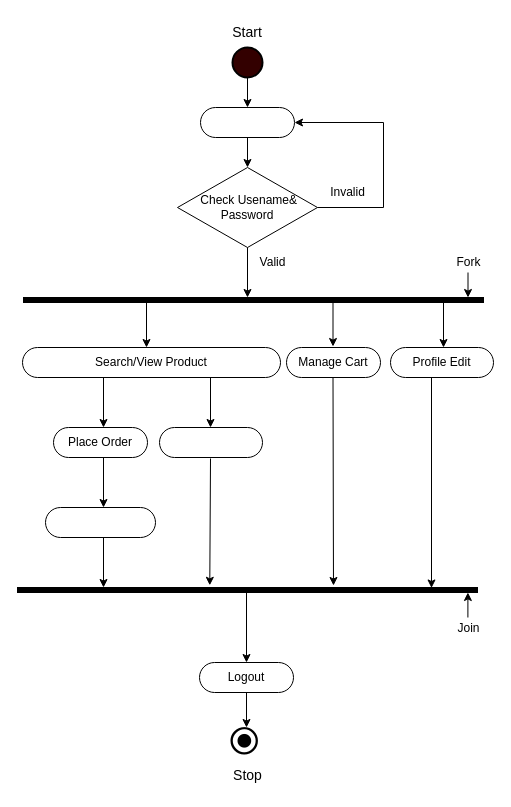
Some shapes in this 511 by 807 pixel diagram are drawn without their labels. The centre of each missing label's shape, as x and y in pixels:
Register/Login: point 247,122
Review: point 210,442
View Order Details: point 100,522
